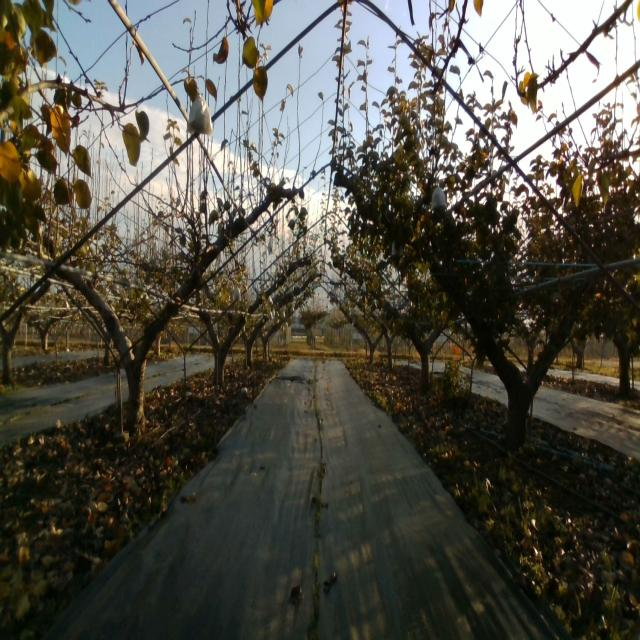pearbags: (185, 93, 214, 137), (430, 187, 447, 211)
